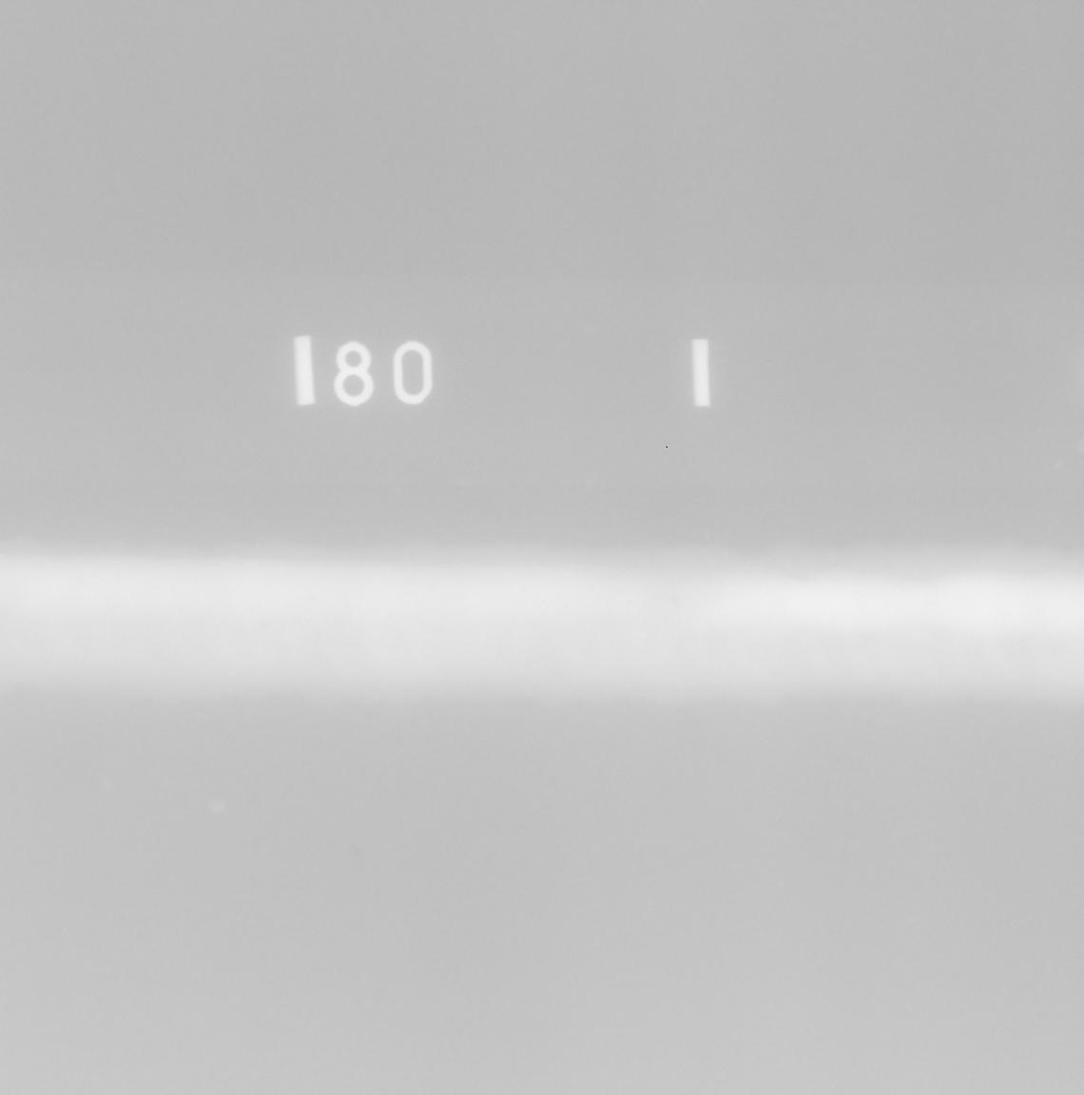Pore/Porosity: (624, 601, 633, 607), (587, 586, 594, 593), (310, 597, 317, 603), (672, 595, 678, 601), (314, 632, 320, 637), (262, 624, 269, 628), (346, 603, 349, 607)
